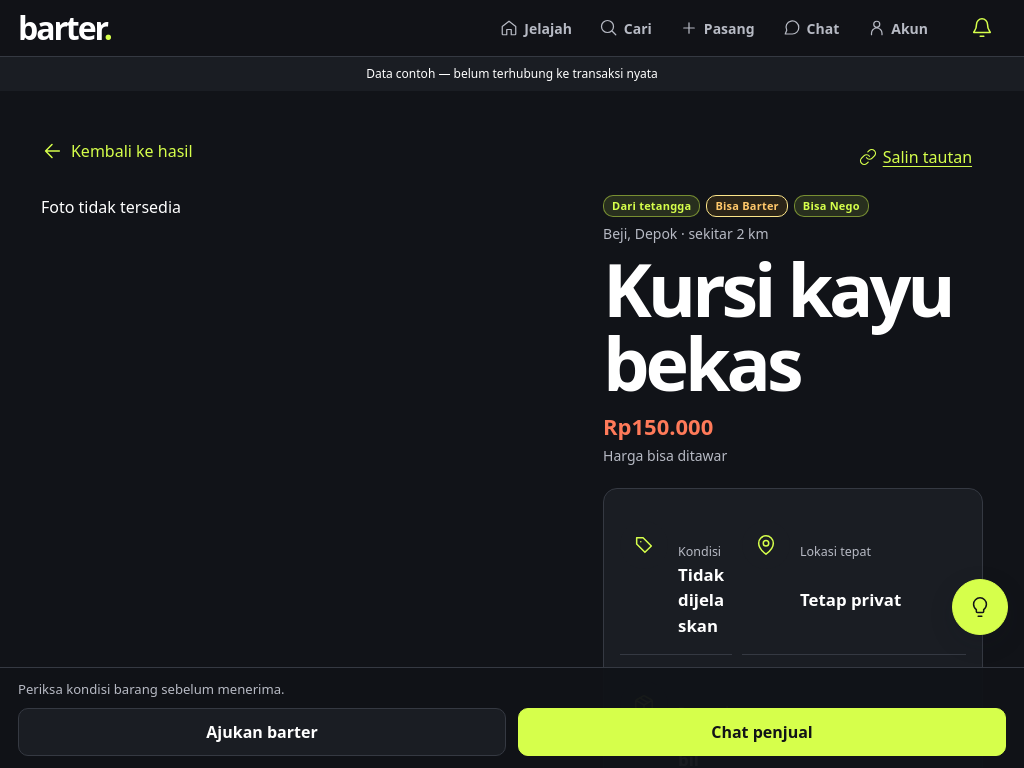
Test case: renders both barter and sale actions without fake consent
The width and height of the screenshot is (1024, 768).
Expected: the link "Chat penjual" is shown, 518,708 -> 1006,756
Click the link "Ajukan barter": (262, 732) 18,708 -> 506,756
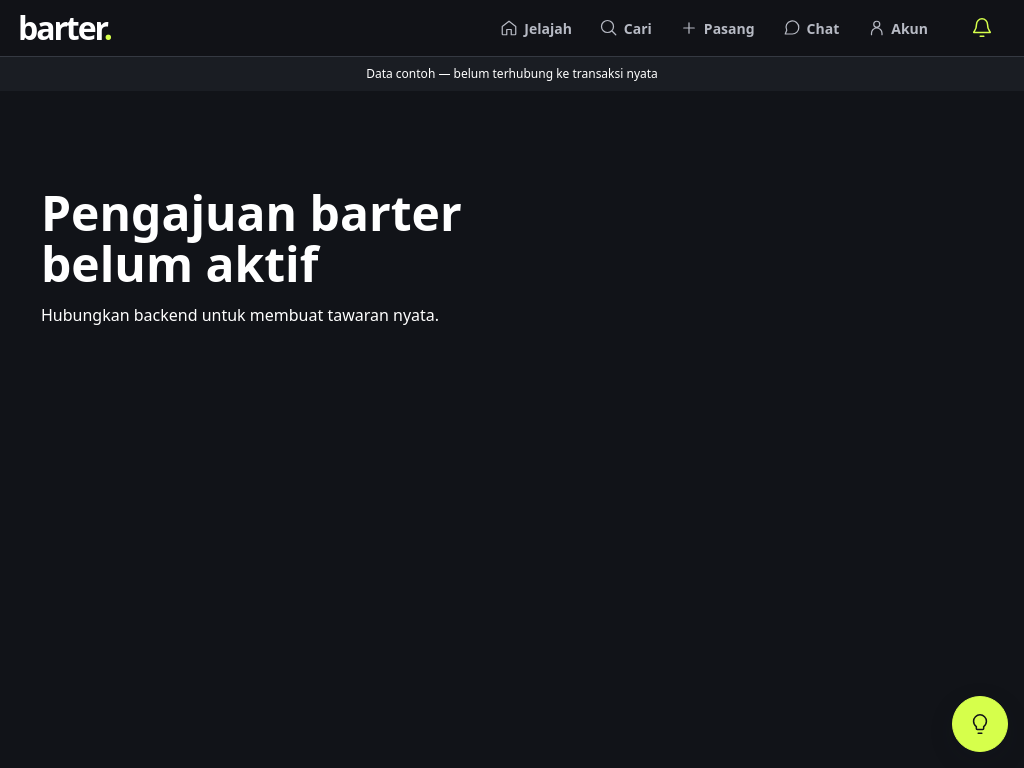
Expected: the heading "Pengajuan barter belum aktif" is shown, 41,188 -> 535,289
